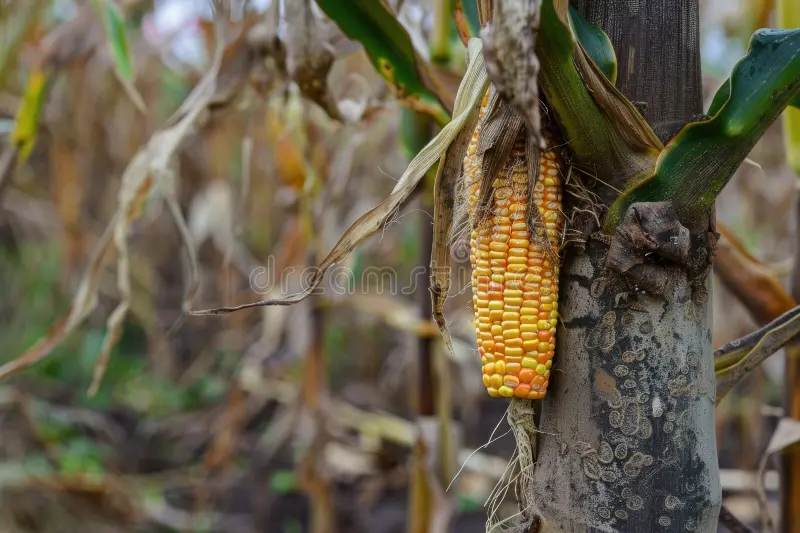corn: (418, 89, 593, 448)
